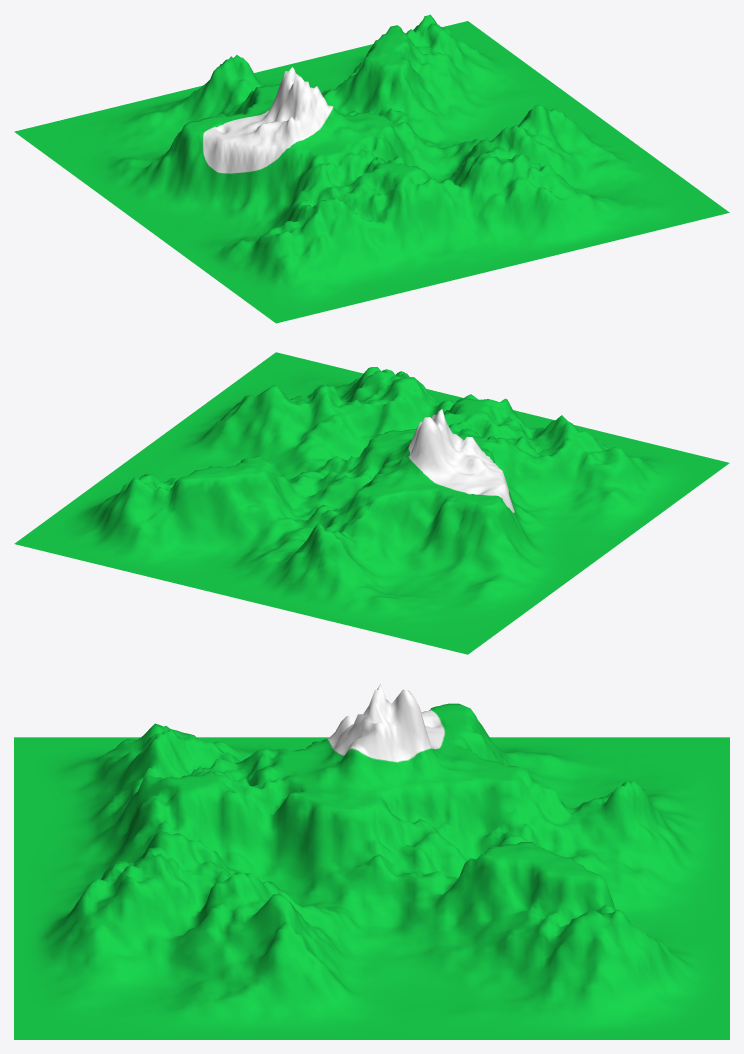
The model's file is ProtoLandscape.obj.
3 renders of one model, top to bottom at view 1: azimuth 30°, elevation 25°; view 2: azimuth 150°, elevation 25°; view 3: azimuth 270°, elevation 25°, orthographic. The views are drawn at different scales.
Visible parts, largest first — view 1: Landscape; view 2: Landscape; view 3: Landscape.
Boxes of the visible parts, x1=… form: Landscape: x1=14, y1=14, x2=729, y2=323; Landscape: x1=14, y1=352, x2=729, y2=654; Landscape: x1=14, y1=683, x2=729, y2=1039.
Size of the model in its own units: 2 by 0.4826 by 2.
1 material, 1 textured.
